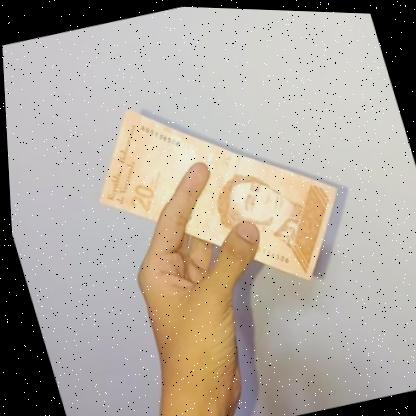twenty-front-vef: (69, 61, 361, 324)
